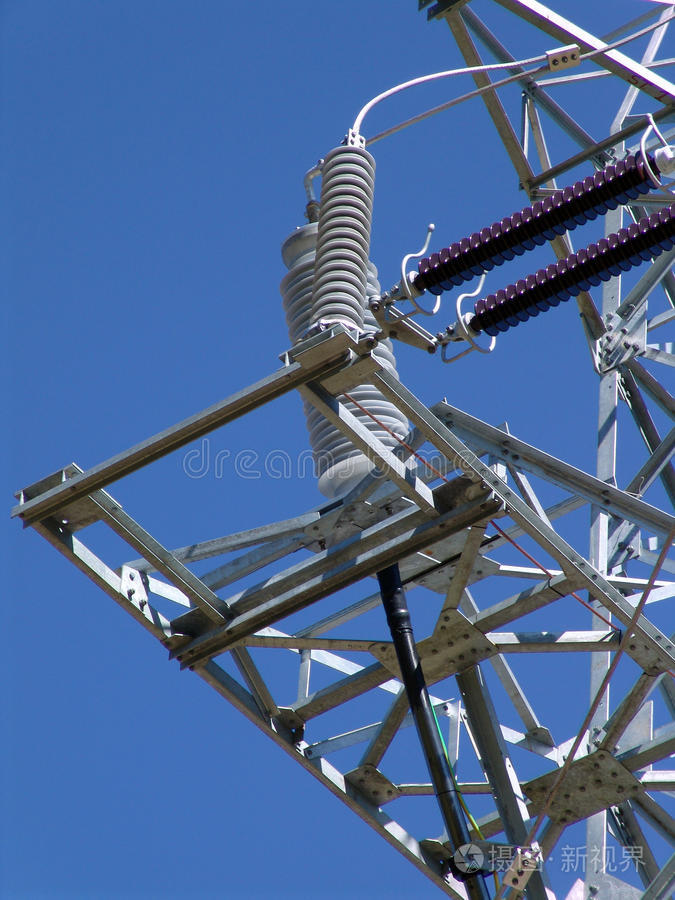insulator: (418, 150, 655, 294), (289, 255, 409, 477), (476, 207, 675, 335), (316, 141, 378, 318)
